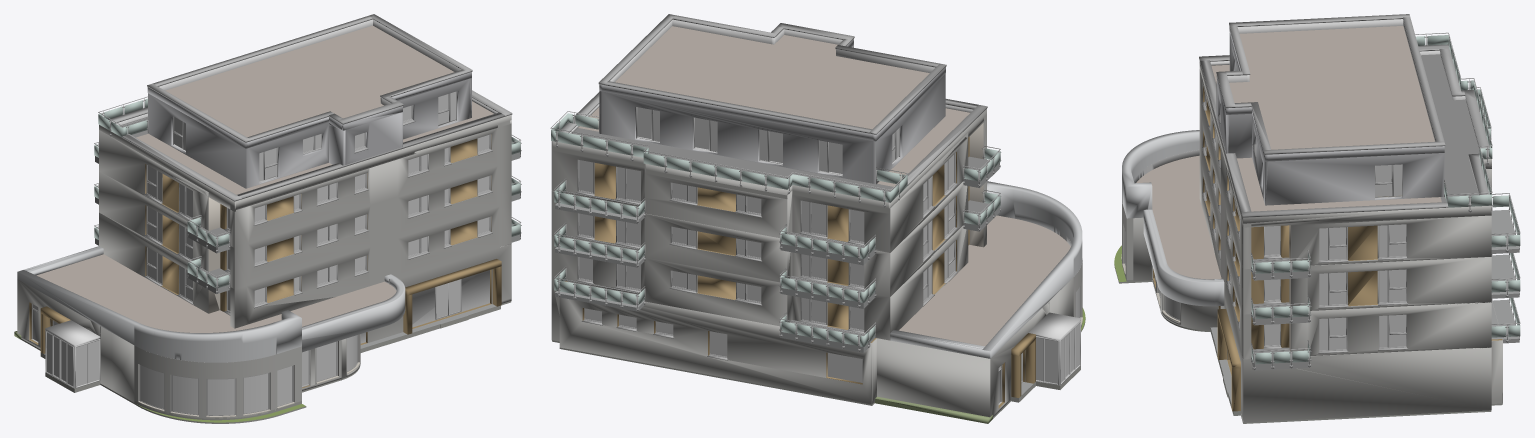
The model's file is gildhuis-splitfix.glb.
The picture shows the model from 3 angles, left to right: view 1: azimuth 30°, elevation 25°; view 2: azimuth 150°, elevation 25°; view 3: azimuth 270°, elevation 25°; orthographic projection. The views are drawn at different scales.
Size of the model in its own units: 32.47 by 16.37 by 23.62.
